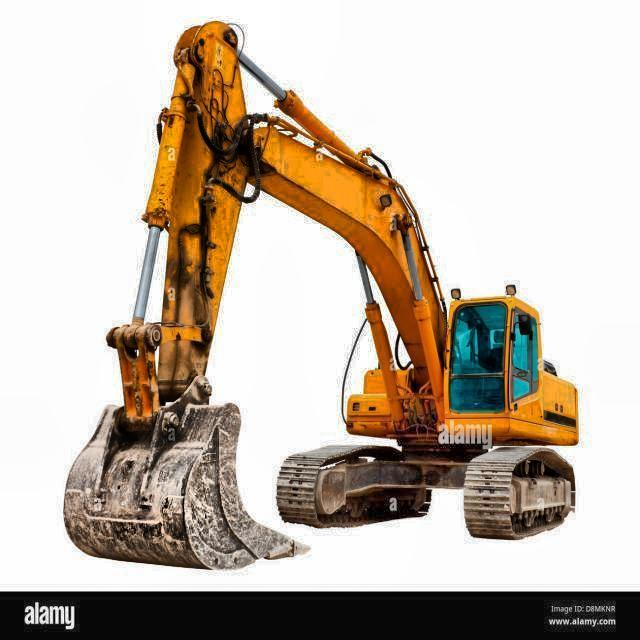excavator: (64, 18, 586, 572)
